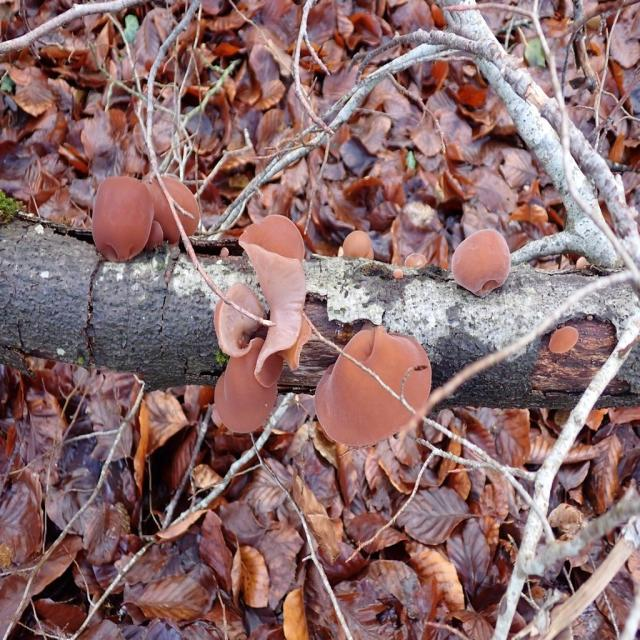Fase Muda: (447, 224, 522, 298), (341, 228, 377, 262), (548, 322, 581, 358), (402, 248, 430, 272), (145, 218, 163, 248)
Matang: (310, 320, 438, 456), (240, 213, 319, 385), (212, 334, 286, 437), (91, 171, 156, 267), (211, 283, 271, 365), (138, 173, 199, 251)
primordia: (574, 252, 589, 272), (391, 266, 405, 283), (218, 246, 230, 260)
